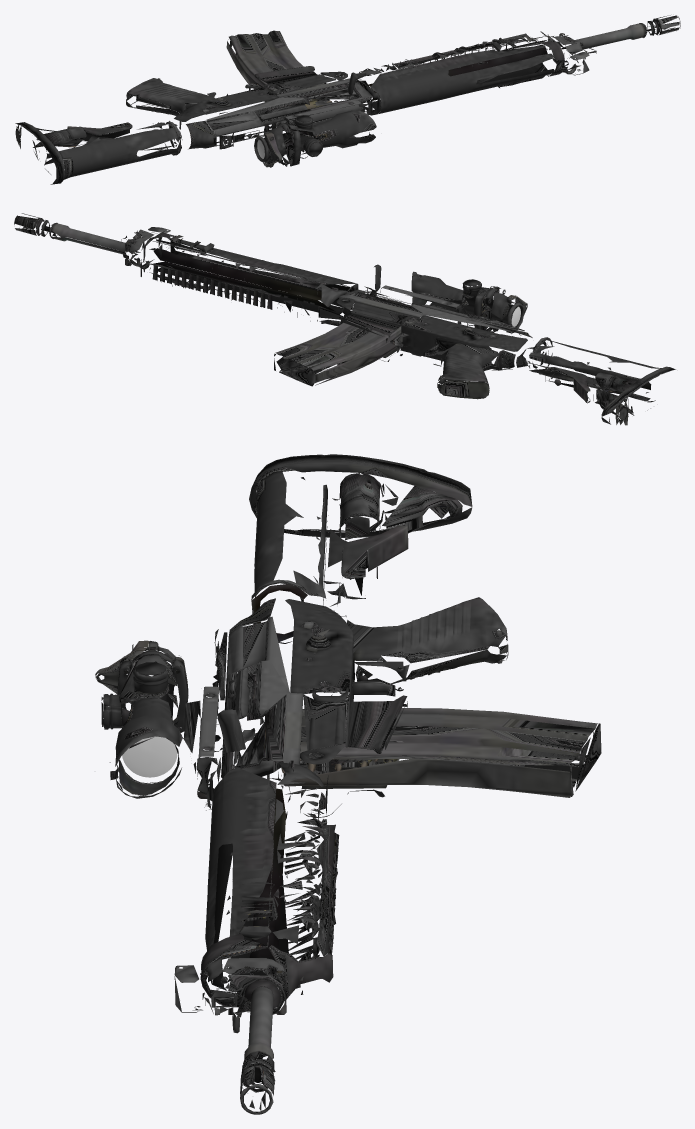
3 views of the same model, one above another, from view 1: azimuth 30°, elevation 25°; view 2: azimuth 150°, elevation 25°; view 3: azimuth 270°, elevation 25° (orthographic). The views are drawn at different scales.
Parts seen in each view (by area): view 1: w_sg552; view 2: w_sg552; view 3: w_sg552.
Part boxes in pixels (bbox=[...]): w_sg552: bbox=[15, 15, 680, 184]; w_sg552: bbox=[14, 213, 675, 425]; w_sg552: bbox=[95, 454, 601, 1114].
Size of the model in its own units: 1.2 by 0.1028 by 0.4241.
Materials: 2 (2 with a texture image).
